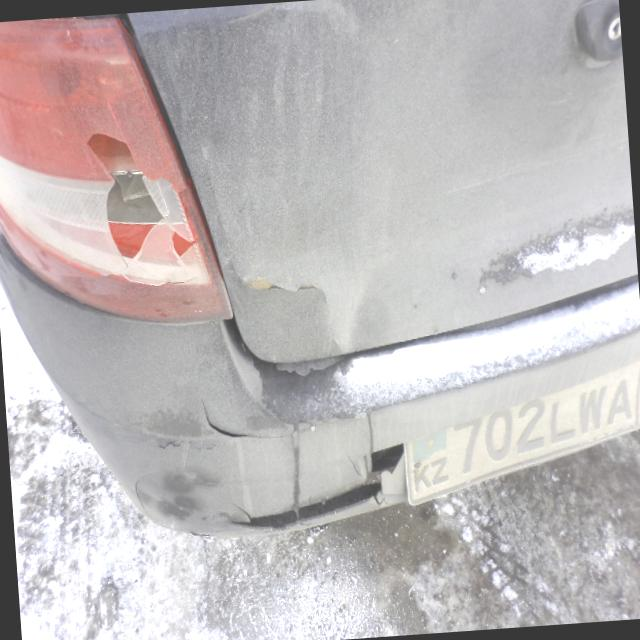Dechirure: (218, 432, 413, 540), (178, 390, 258, 450), (245, 265, 337, 315)
Phare abime: (0, 9, 208, 327)
Rayure: (244, 270, 279, 304)
